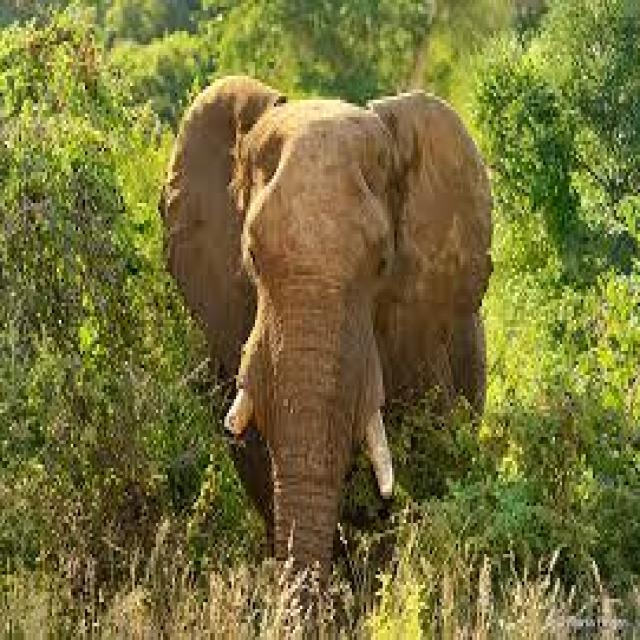Elephant: (156, 75, 489, 568)
